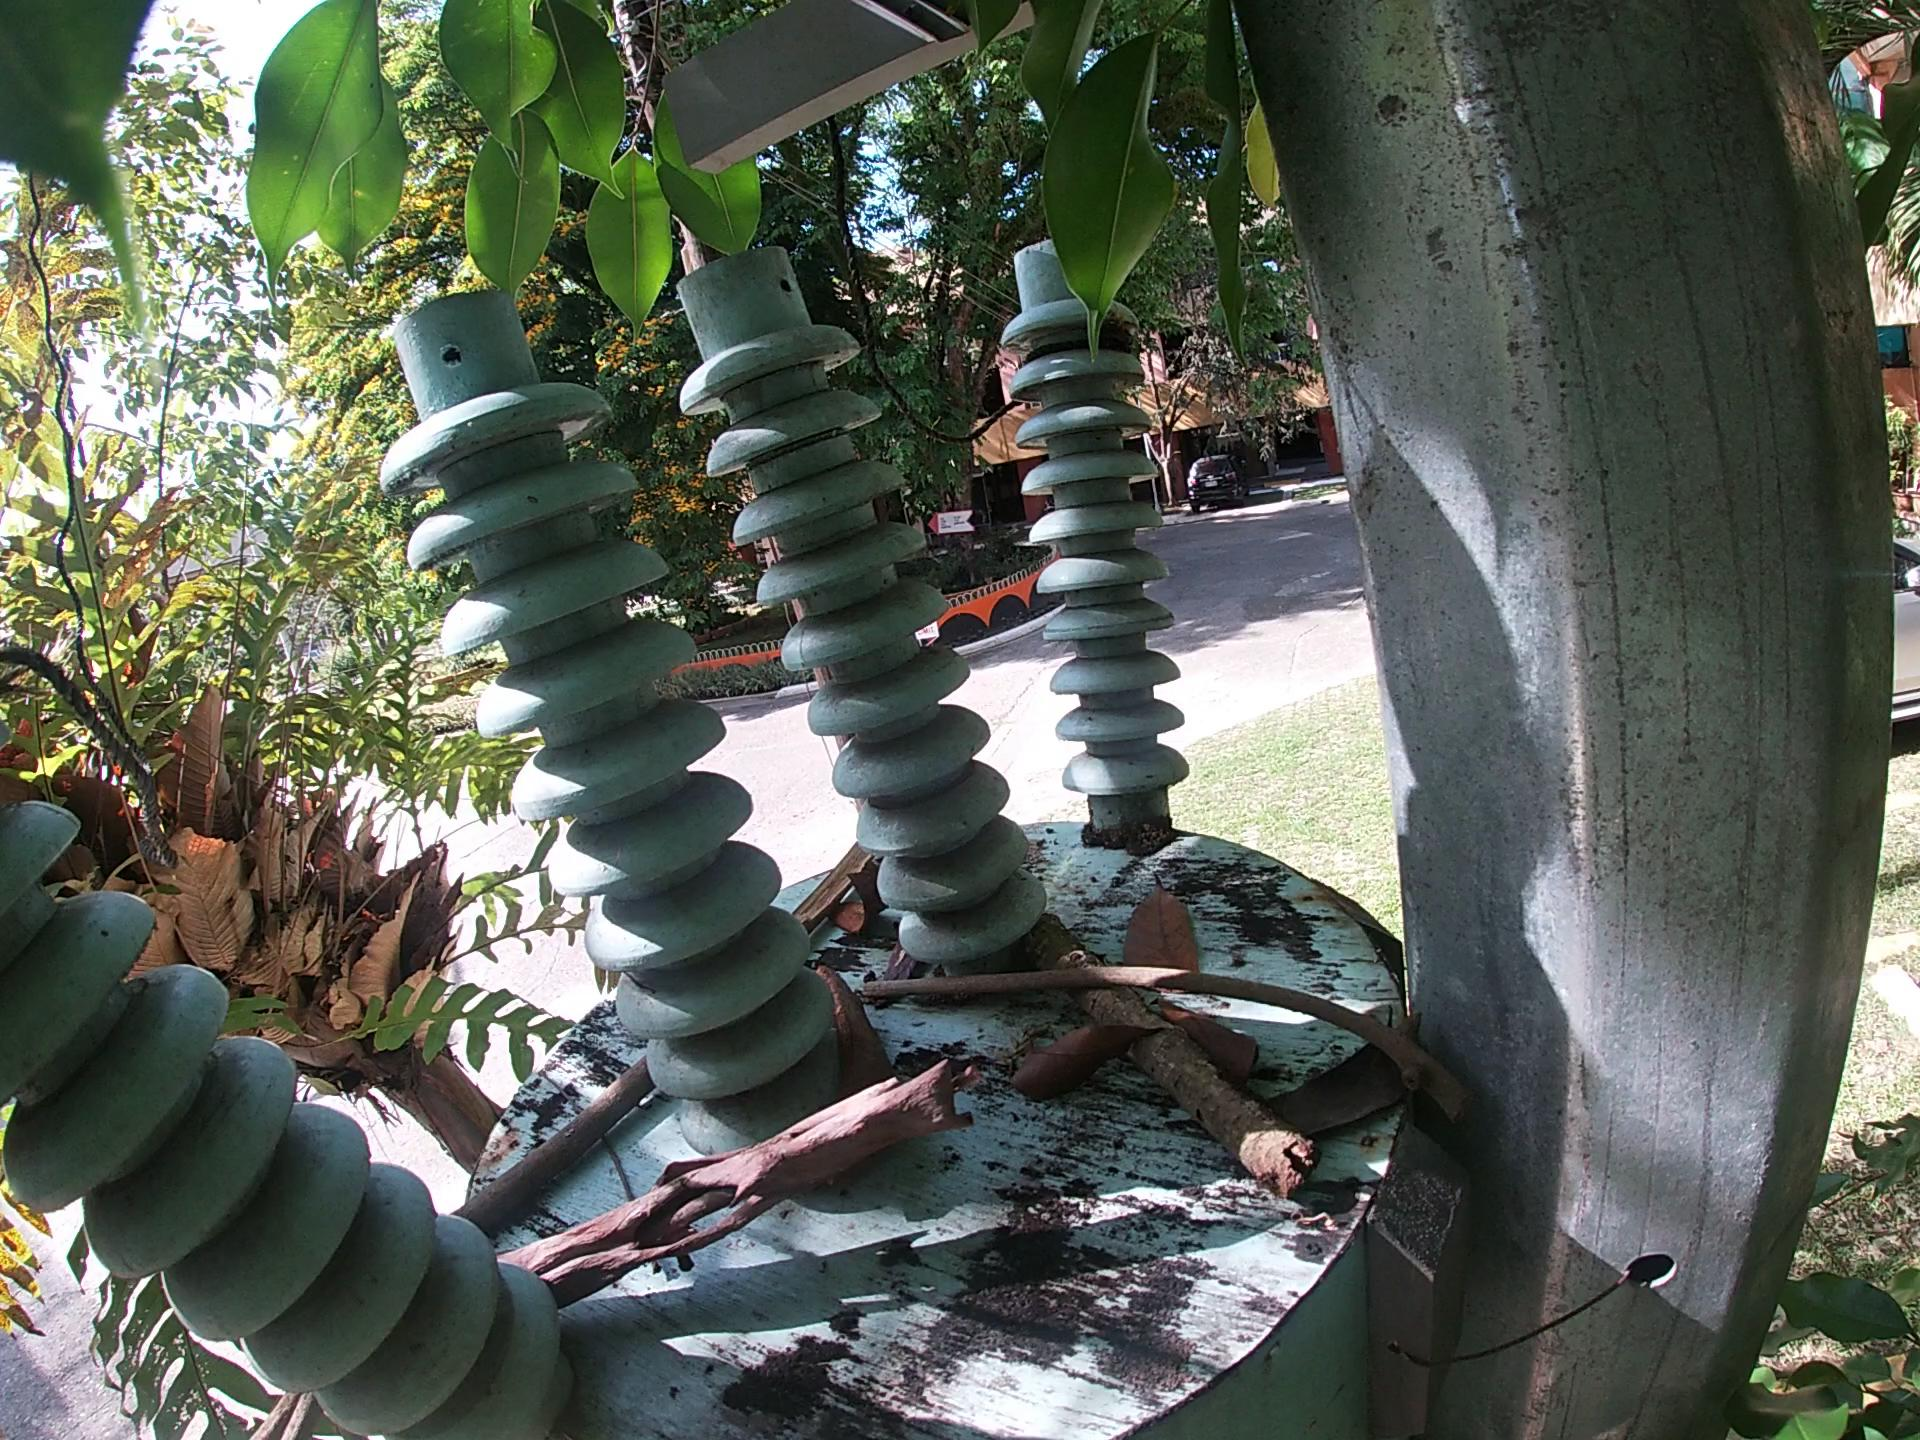leaf: (1261, 1004, 1404, 1141), (1005, 1018, 1169, 1110), (1146, 988, 1268, 1092), (1117, 867, 1215, 973)
mahogany fruit: (816, 957, 900, 1118), (831, 855, 897, 950)
tree branch: (488, 1047, 992, 1307), (859, 961, 1494, 1130), (1023, 911, 1324, 1216), (440, 1047, 661, 1245), (788, 841, 869, 941)
